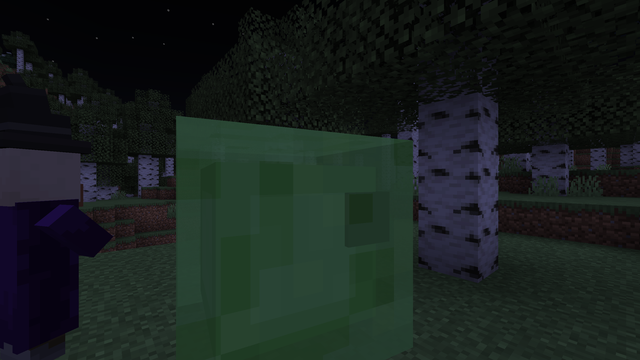slimes: (155, 96, 413, 351)
sorcieres: (2, 140, 79, 359)
